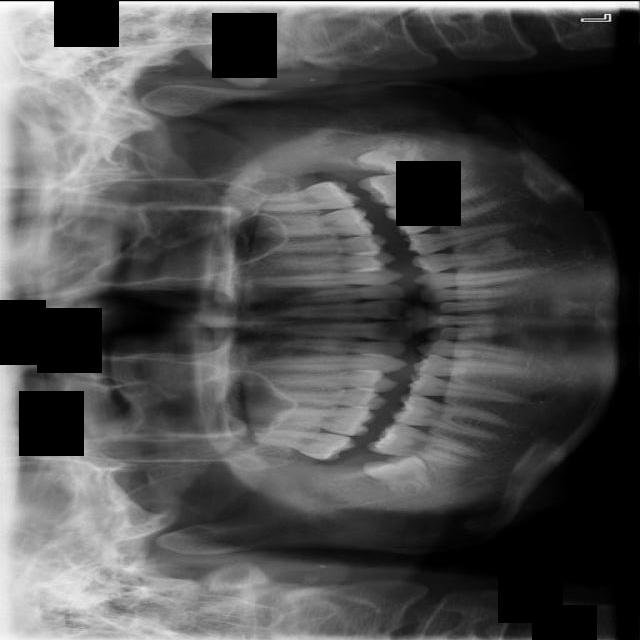73: (595, 30, 606, 38)
BioHorizons Implant: (244, 177, 361, 215)
Biomet 3i Implant: (353, 136, 423, 179)
Blue Sky Bio Implant: (355, 162, 469, 211)
Caries: (248, 424, 359, 464)
Implant: (365, 417, 487, 471)
Keystone Dental Implant: (360, 445, 434, 507)
